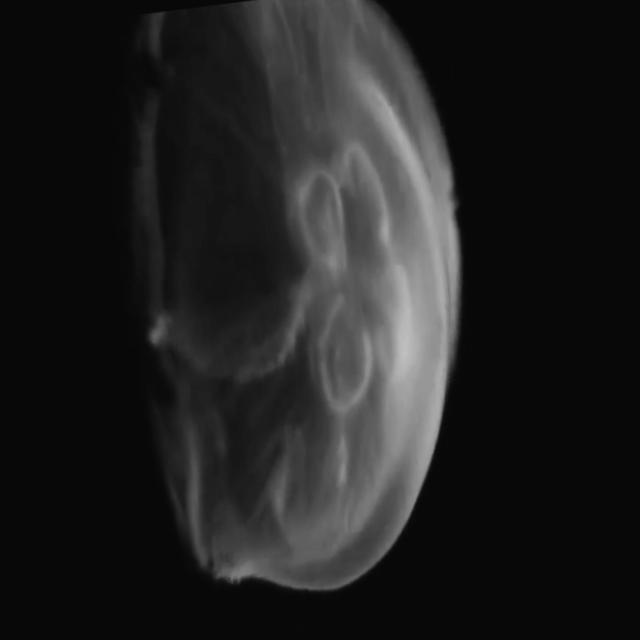Moon-jellyfish: (116, 0, 466, 636)
